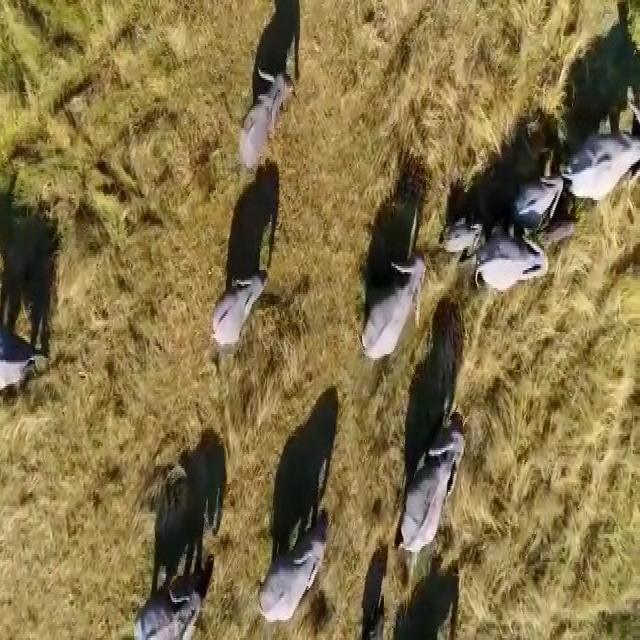Elephant: (400, 423, 474, 574), (357, 256, 431, 368), (236, 62, 298, 190), (253, 527, 335, 622), (210, 269, 274, 368), (569, 123, 640, 212), (467, 243, 567, 295), (131, 572, 204, 640), (522, 157, 570, 230), (441, 204, 496, 260), (0, 348, 53, 400)
